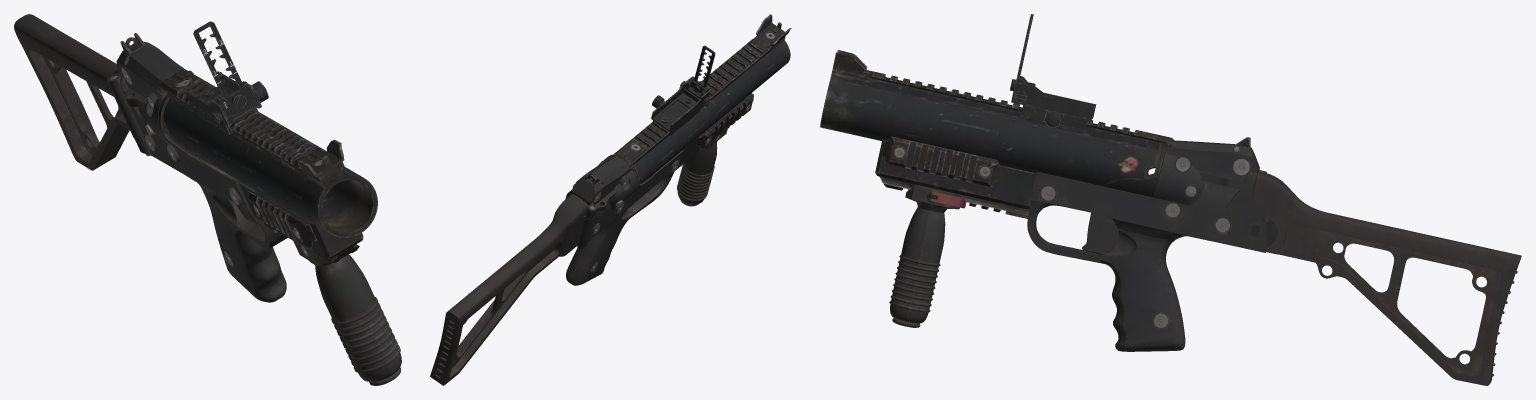
File: launcher.glb
3 renders of one model, left to right at view 1: azimuth 30°, elevation 25°; view 2: azimuth 150°, elevation 25°; view 3: azimuth 270°, elevation 25°, orthographic. The views are drawn at different scales.
Parts seen in each view (by area): view 1: Obj_11_Lowpoly_Material #27_0, Scope_6_Lowpoly_Material #26_0; view 2: Obj_11_Lowpoly_Material #27_0, Scope_6_Lowpoly_Material #26_0; view 3: Obj_11_Lowpoly_Material #27_0, Scope_6_Lowpoly_Material #26_0.
Boxes of the visible parts, <box> form: Obj_11_Lowpoly_Material #27_0: <box>14,14,401,385</box>; Scope_6_Lowpoly_Material #26_0: <box>184,21,268,134</box>; Obj_11_Lowpoly_Material #27_0: <box>430,14,791,385</box>; Scope_6_Lowpoly_Material #26_0: <box>651,45,715,135</box>; Obj_11_Lowpoly_Material #27_0: <box>820,50,1521,385</box>; Scope_6_Lowpoly_Material #26_0: <box>1010,14,1096,130</box>.
Size of the model in its own units: 625 by 1211 by 2471.
2 materials, 2 textured.
